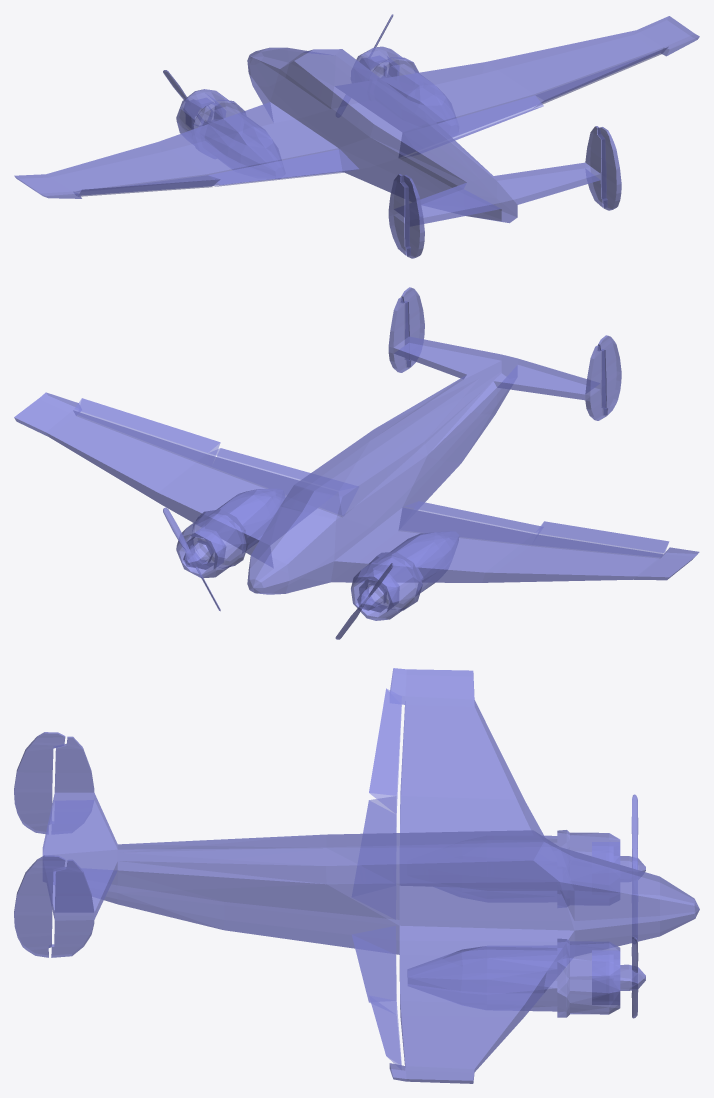
The picture shows the model from 3 angles, top to bottom: view 1: azimuth 30°, elevation 25°; view 2: azimuth 150°, elevation 25°; view 3: azimuth 270°, elevation 25°; orthographic projection. The views are drawn at different scales.
Parts seen in each view (by area): view 1: PlaneBody, Windows; view 2: PlaneBody, Windows; view 3: PlaneBody, Windows.
Boxes of the visible parts, left/top/right/bottom form: PlaneBody: left=14, top=14, right=699, bottom=258; Windows: left=282, top=49, right=425, bottom=134; PlaneBody: left=14, top=287, right=699, bottom=639; Windows: left=282, top=432, right=425, bottom=518; PlaneBody: left=14, top=668, right=699, bottom=1083; Windows: left=328, top=832, right=572, bottom=881.
Size of the model in its own units: 345 by 73.3 by 244.
